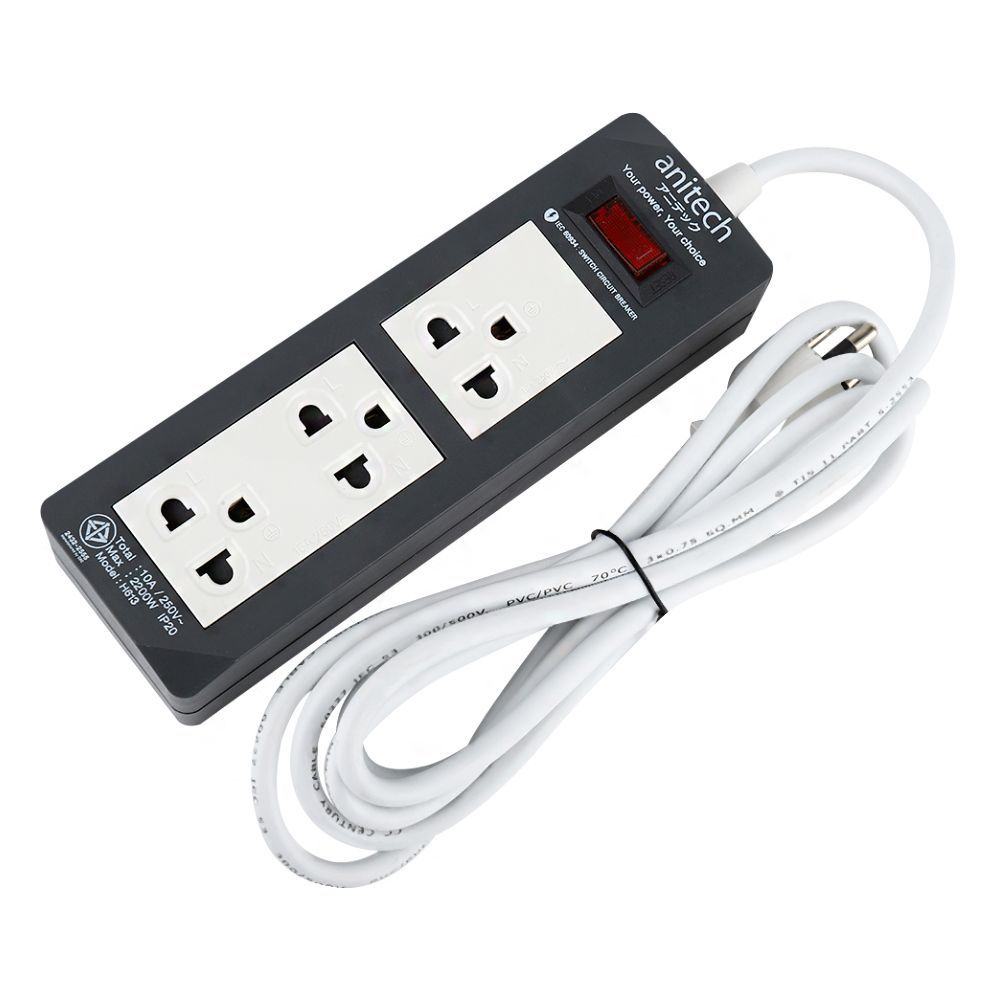Three_eye_plug: (21, 105, 800, 746)
